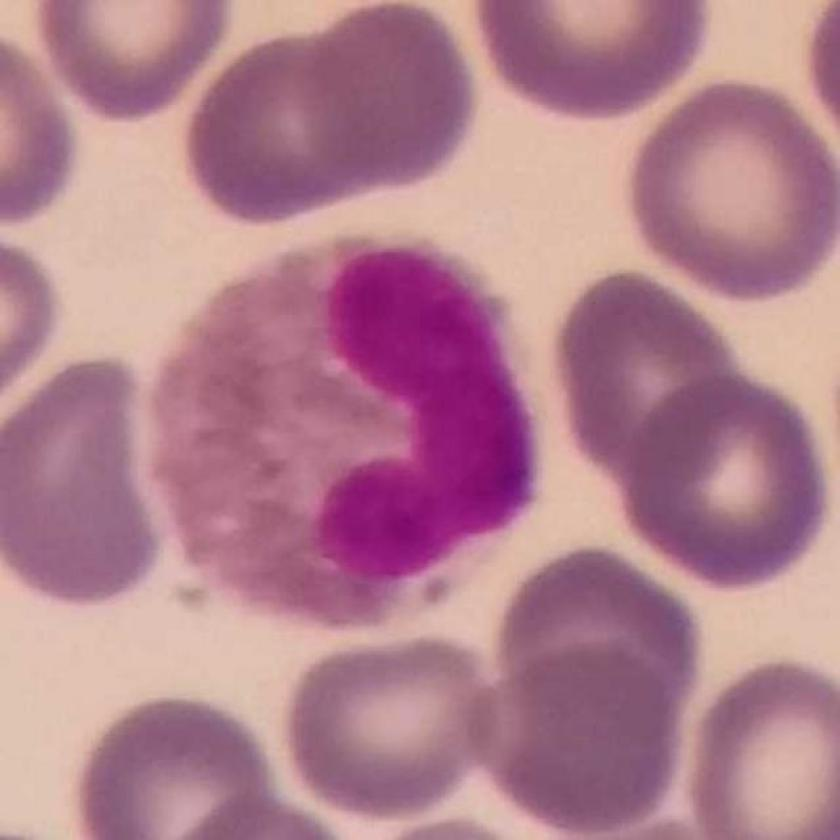eosinophil: (139, 228, 547, 635)
